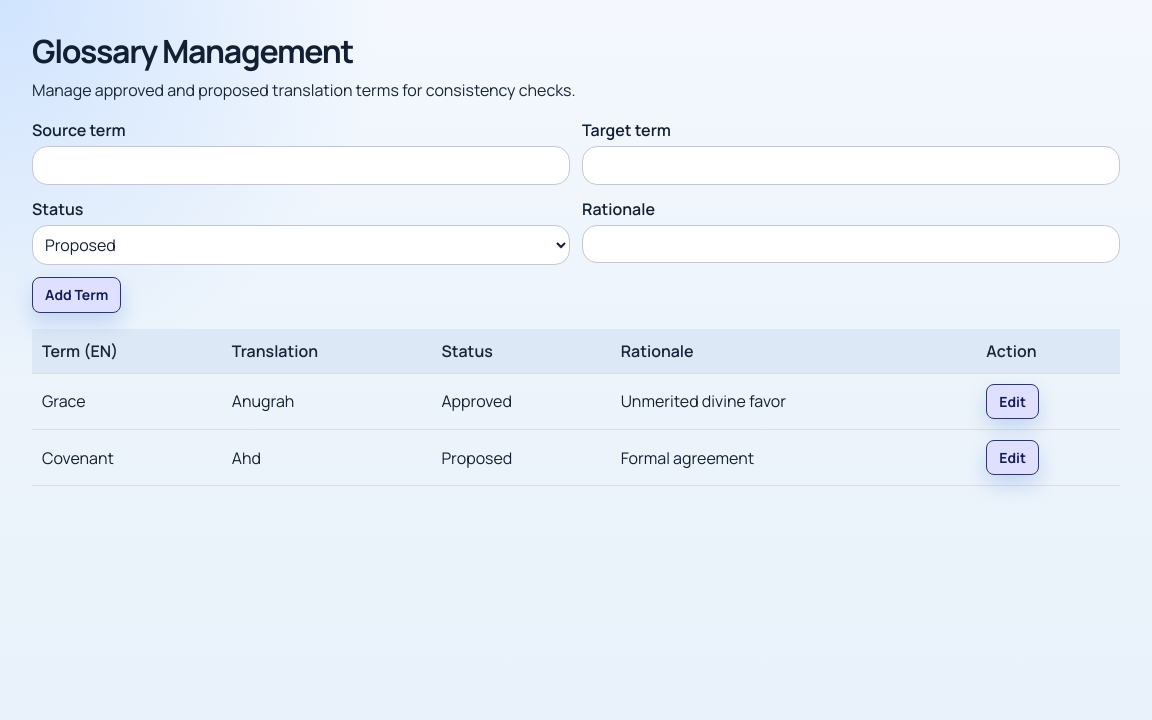
Test: GlossaryManager › loads a term into the form and saves edits
The image size is (1152, 720).
Step 1. Click the button with aria-label "Edit term-2" → (1013, 458), box [986, 440, 1039, 475]
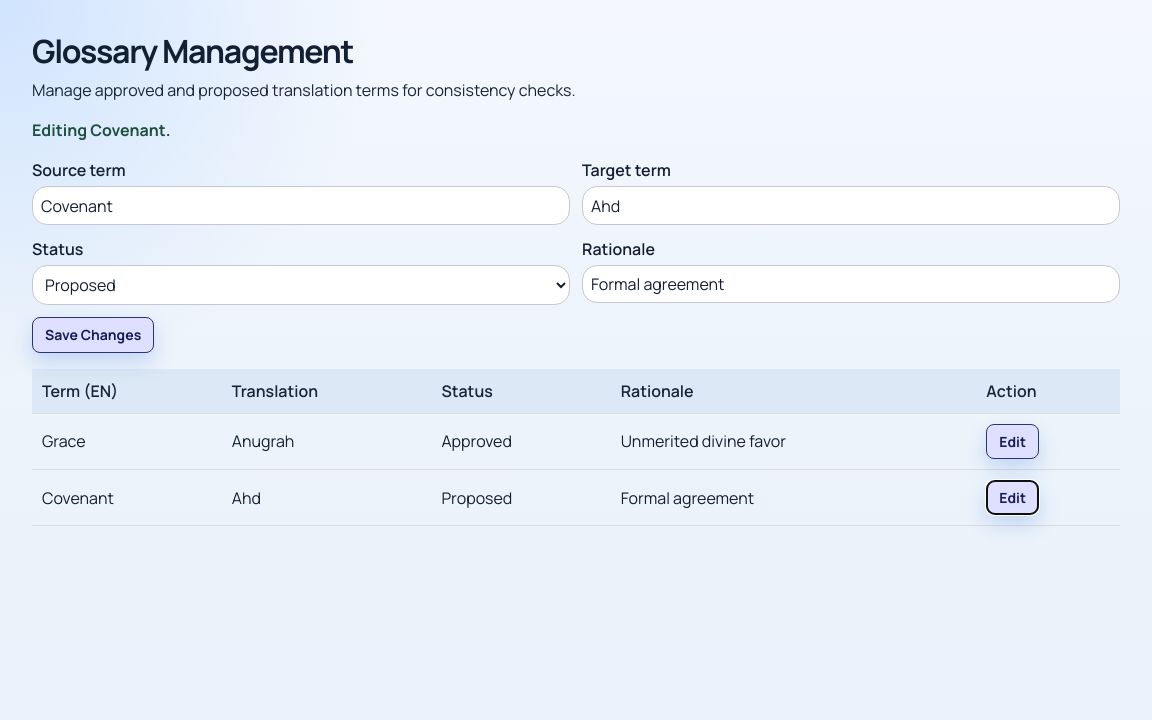
Step 2. Replace the text in the field labelled "Target term" with "Berith" → (851, 206), box [582, 186, 1120, 225]
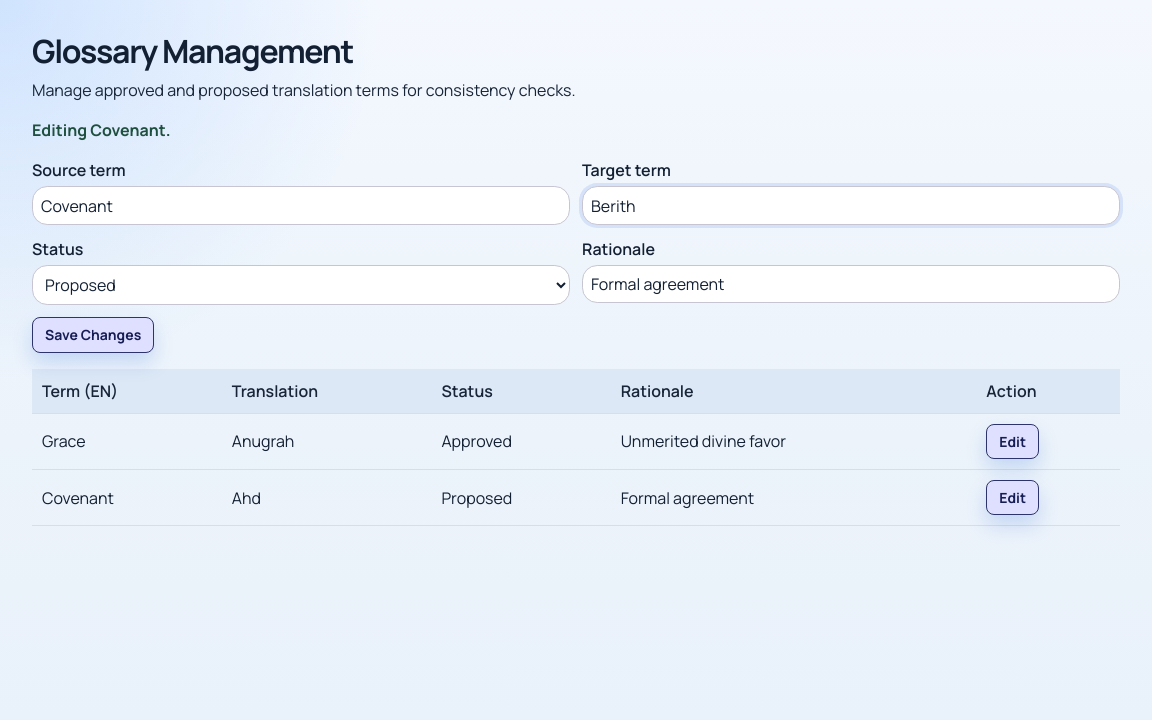
Step 3. Click the button "Save Changes" → (93, 335), box [32, 317, 154, 352]
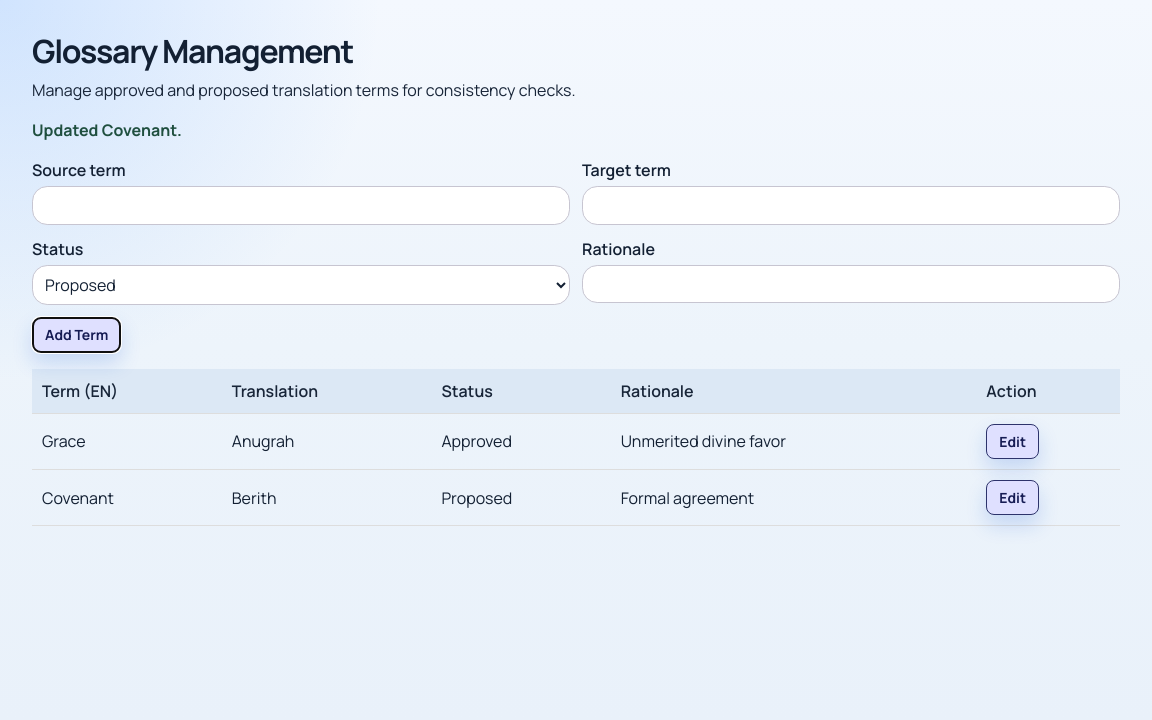
Expected: the text "Berith" is shown, [222, 469, 431, 526]
Expected: the button "Add Term" is shown, [32, 317, 121, 352]
